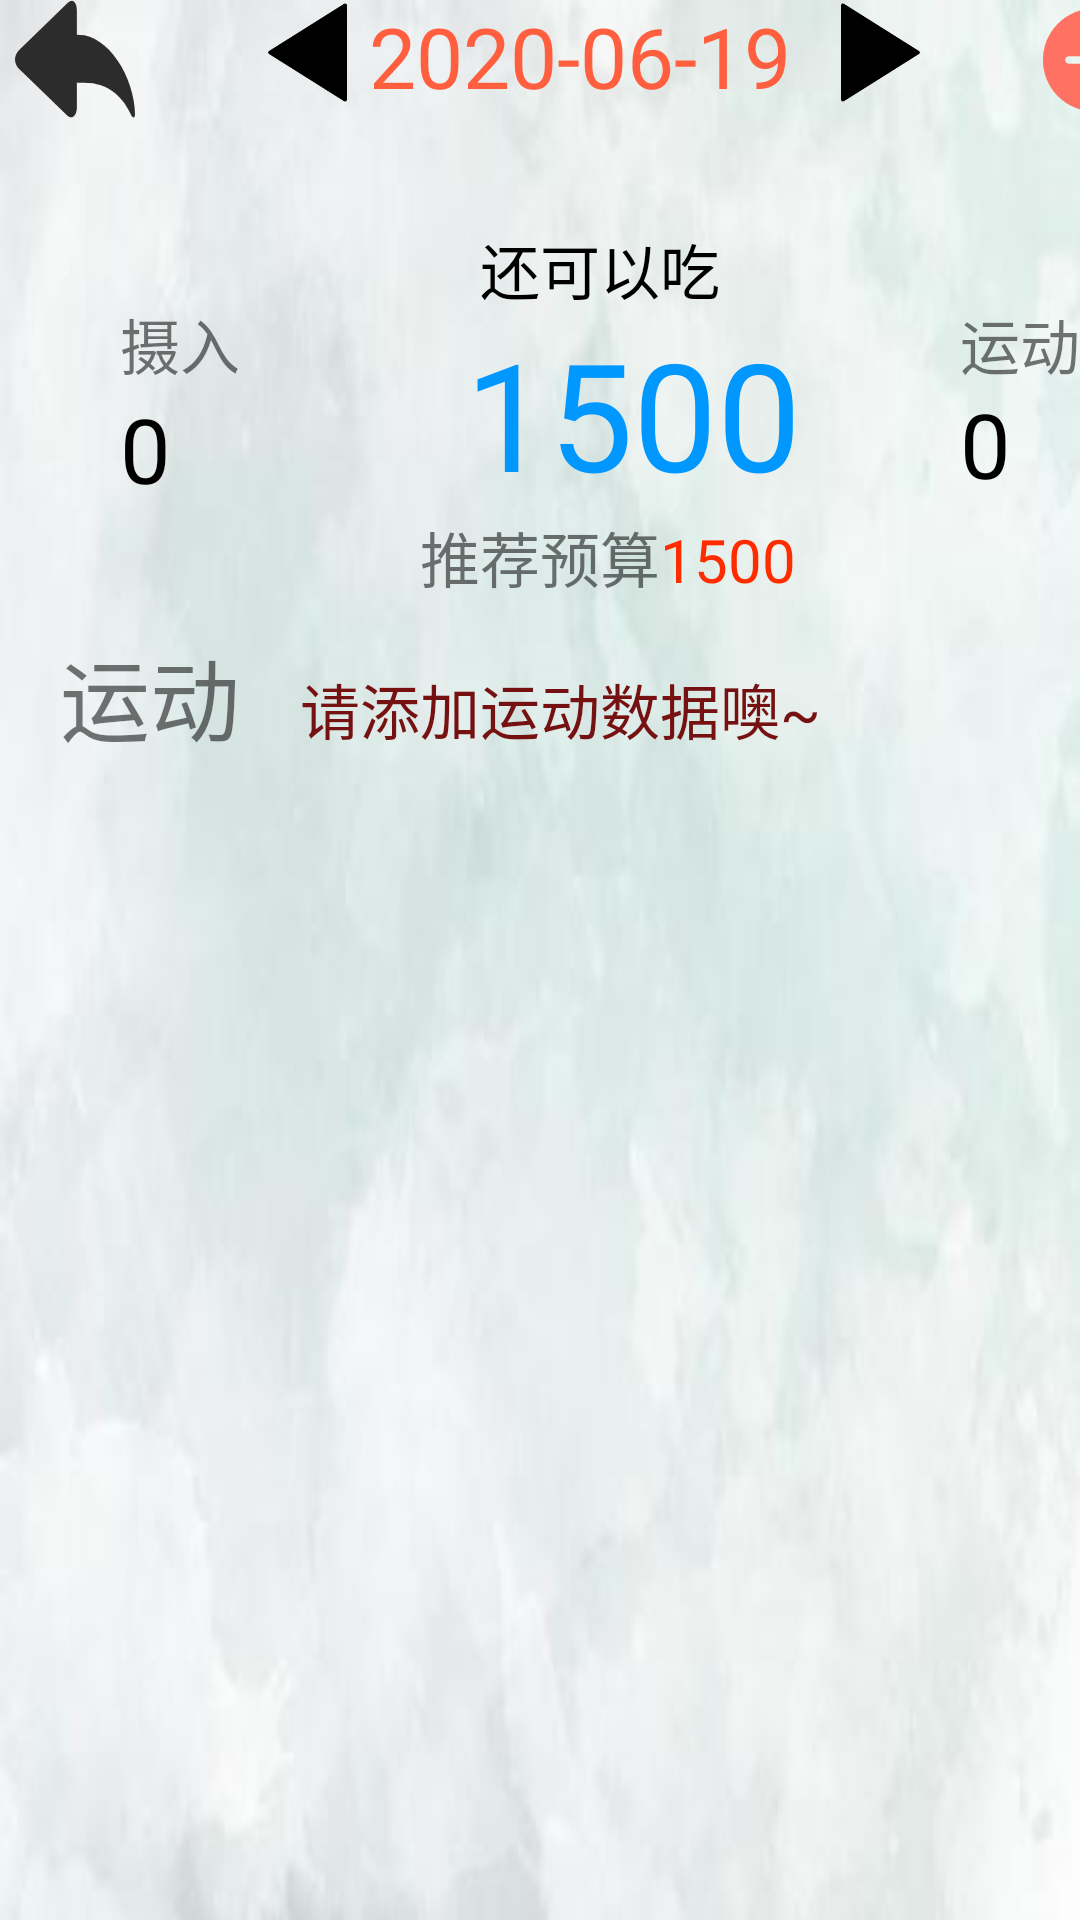

Point at icon controls on the screen. Image size 1080 × 1920, points as point (x, y).
day back: point (307, 52)
day forward: point (880, 52)
showfood back: point (75, 59)
